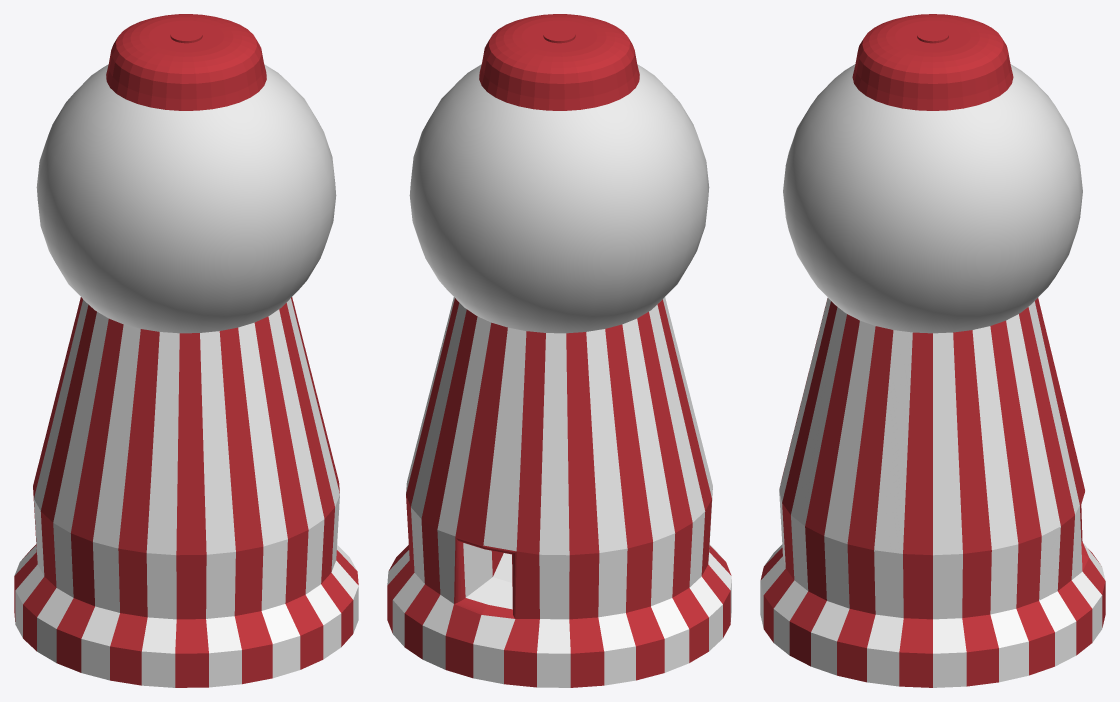
The model's file is gumballmachine.fbx.
3 renders of one model, left to right at view 1: azimuth 30°, elevation 25°; view 2: azimuth 150°, elevation 25°; view 3: azimuth 270°, elevation 25°, orthographic.
Parts seen in each view (by area): view 1: Cylinder, Sphere, Cylinder.001; view 2: Cylinder, Sphere, Cylinder.001; view 3: Cylinder, Sphere, Cylinder.001.
Boxes of the visible parts, x1,y1,x2,y2 form: Cylinder: (14, 297, 358, 687); Sphere: (36, 64, 336, 333); Cylinder.001: (106, 14, 266, 110); Cylinder: (387, 297, 731, 687); Sphere: (409, 64, 709, 333); Cylinder.001: (479, 14, 639, 110); Cylinder: (760, 298, 1105, 687); Sphere: (783, 64, 1082, 333); Cylinder.001: (852, 14, 1013, 110).
Bounding box in the file's own units: 230 × 427 × 230.
